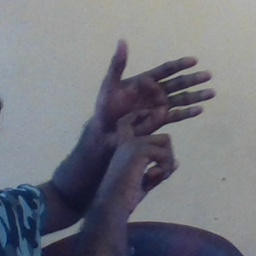R: (82, 37, 218, 180)
